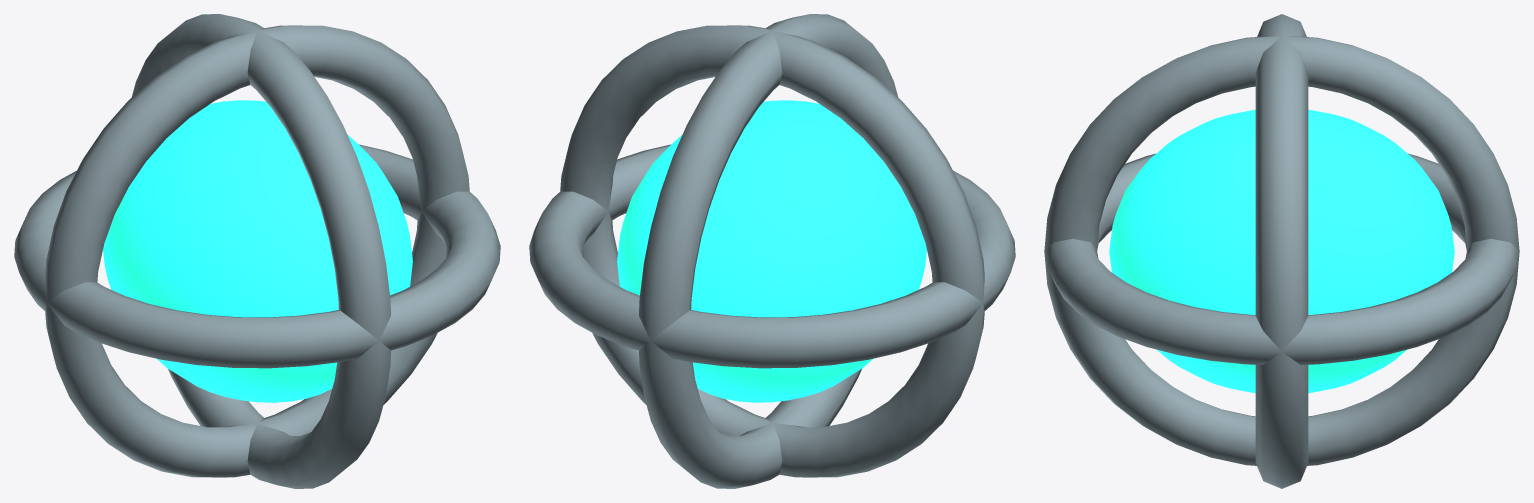
Rendered from IonAttacker_Normal.fbx.
The picture shows the model from 3 angles, left to right: view 1: azimuth 30°, elevation 25°; view 2: azimuth 150°, elevation 25°; view 3: azimuth 270°, elevation 25°; orthographic projection. The views are drawn at different scales.
Visible parts, largest first — view 1: Containment ring.002, Plasma core, Containment ring, Containment ring.001; view 2: Containment ring.002, Plasma core, Containment ring, Containment ring.001; view 3: Containment ring, Plasma core, Containment ring.001, Containment ring.002.
Boxes of the visible parts, x1,y1,x2,y2 form: Containment ring.002: (45, 25, 469, 477); Plasma core: (103, 100, 412, 402); Containment ring: (131, 14, 390, 488); Containment ring.001: (14, 144, 500, 368); Containment ring.002: (560, 25, 984, 477); Plasma core: (617, 100, 926, 402); Containment ring: (639, 14, 898, 488); Containment ring.001: (529, 144, 1015, 368); Containment ring: (1044, 36, 1519, 465); Plasma core: (1109, 109, 1454, 393); Containment ring.001: (1044, 153, 1519, 364); Containment ring.002: (1255, 14, 1308, 488).
Bounding box in the file's own units: 99 × 99 × 99.
